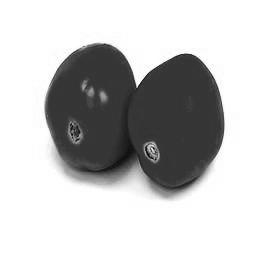bukan telur: (129, 54, 225, 189), (44, 41, 138, 172)
